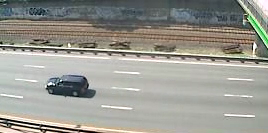car: (43, 72, 92, 99)
